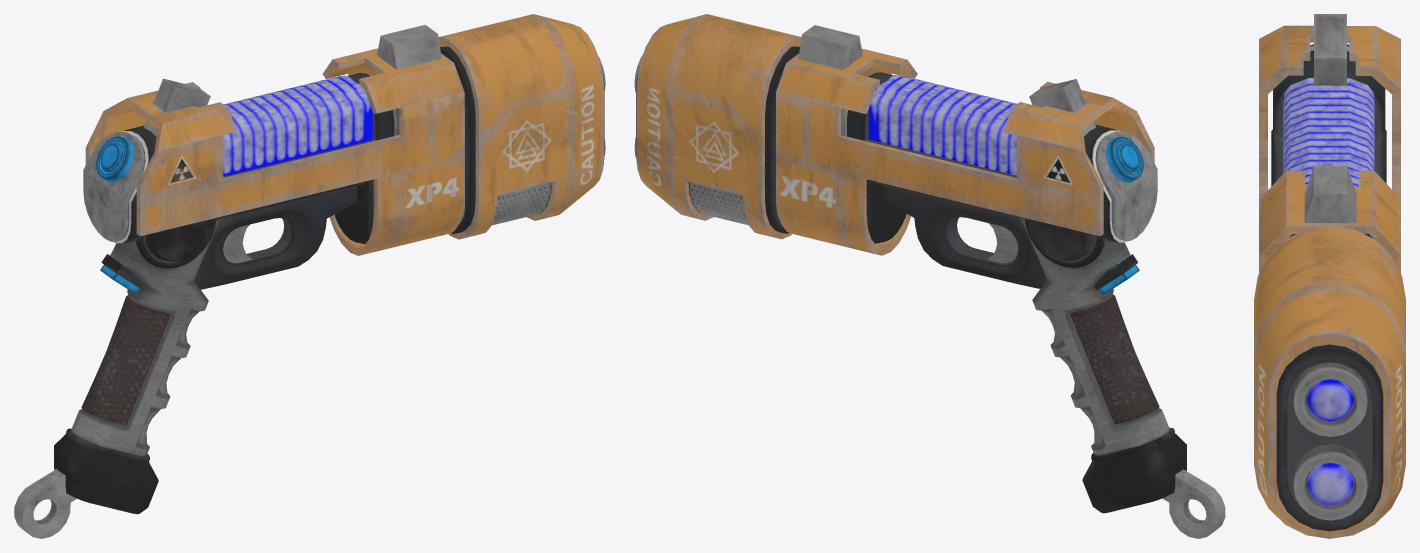
File: ion-stylized-laser.glb
The picture shows the model from 3 angles, left to right: view 1: azimuth 30°, elevation 25°; view 2: azimuth 150°, elevation 25°; view 3: azimuth 270°, elevation 25°; orthographic projection. The views are drawn at different scales.
Parts seen in each view (by area): view 1: Gun_final; view 2: Gun_final; view 3: Gun_final.
Part boxes in pixels (box(x1,y1,x2,y2)): Gun_final: box(14, 14, 605, 538); Gun_final: box(634, 14, 1225, 538); Gun_final: box(1254, 14, 1405, 538).
Bounding box in the file's own units: 0.2975 × 0.2084 × 0.0523.
1 material, 1 textured.
